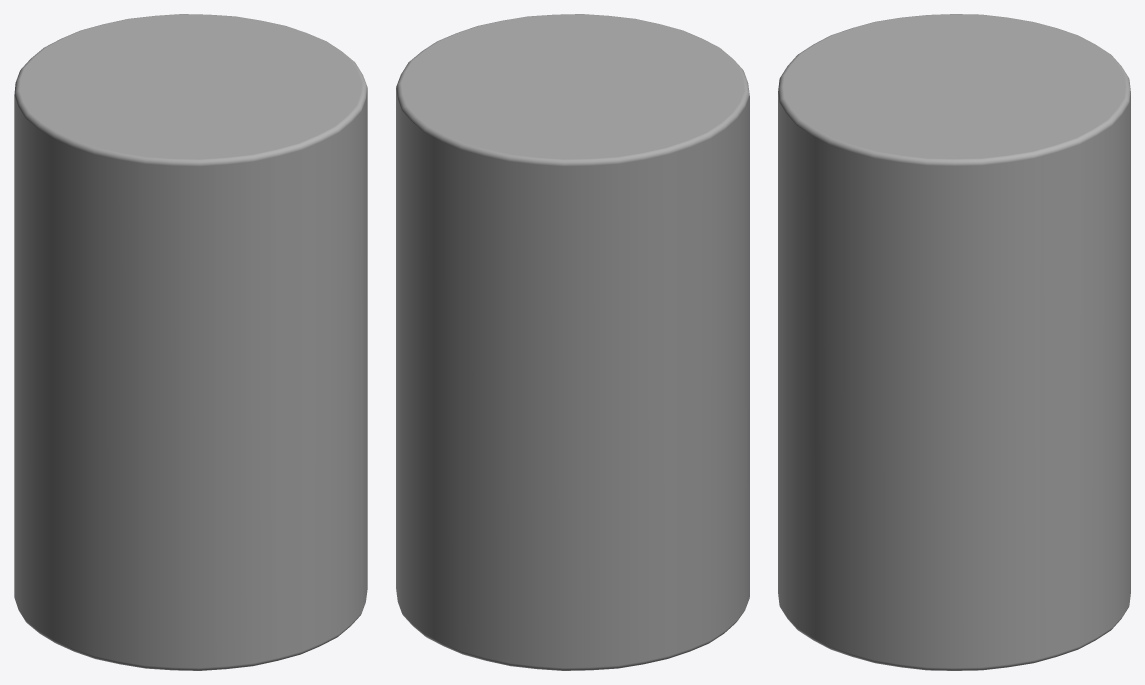
3 renders of one model, left to right at view 1: azimuth 30°, elevation 25°; view 2: azimuth 150°, elevation 25°; view 3: azimuth 270°, elevation 25°, orthographic.
Visible parts, largest first — view 1: cylinder.1; view 2: cylinder.1; view 3: cylinder.1.
Part boxes in pixels (bbox=[...]): cylinder.1: bbox=[14, 14, 367, 670]; cylinder.1: bbox=[396, 14, 749, 670]; cylinder.1: bbox=[778, 14, 1130, 670].
Size of the model in its own units: 0.0873 by 0.1397 by 0.0873.
Materials: 1 (1 with a texture image).
